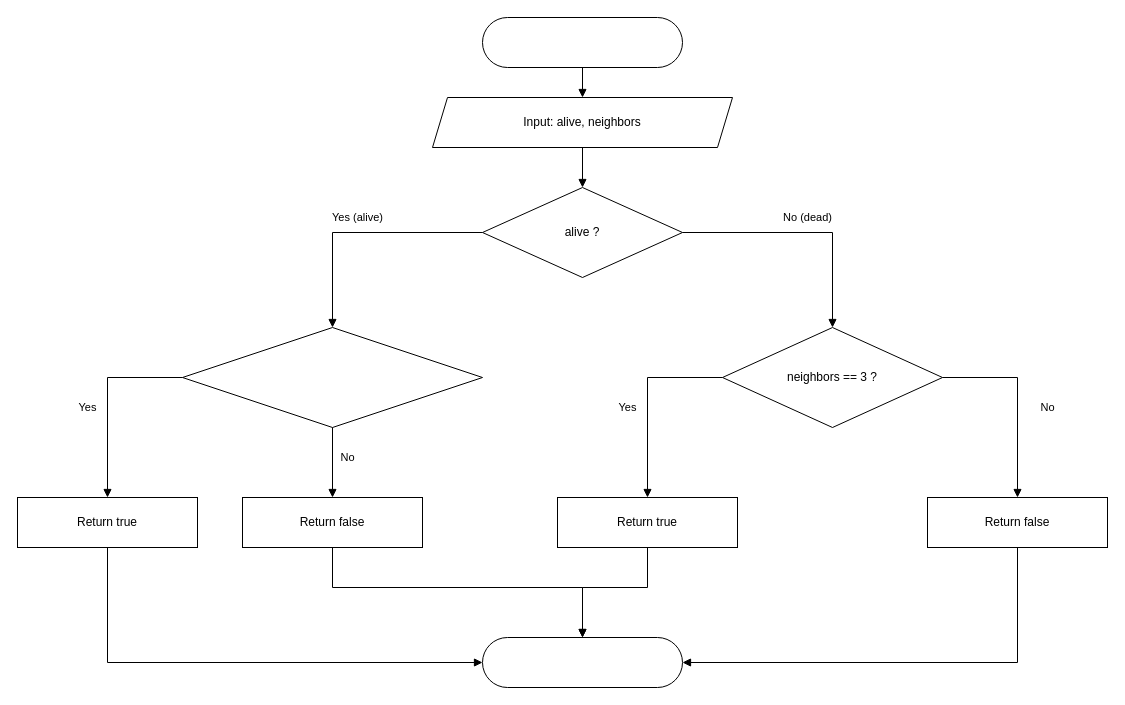
Image size: 1125x705. Some labels were removed from this diagram. The shapes that lost their labels are listed below. From the top down, each one's centre as x and y in pixels, then its label:
(582,42): Start
(332,377): neighbors == 2 or neighbors == 3 ?
(582,662): End
